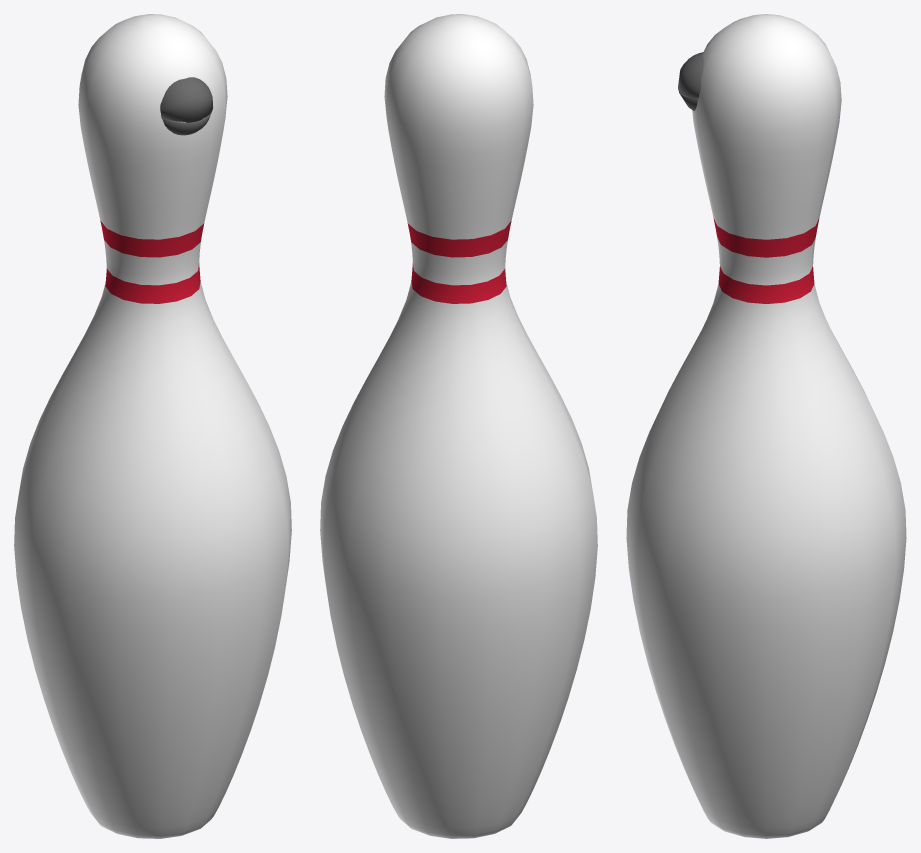
Rendered from pinhead.fbx.
3 views of the same model, side by side, from view 1: azimuth 30°, elevation 25°; view 2: azimuth 150°, elevation 25°; view 3: azimuth 270°, elevation 25° (orthographic).
Visible parts, largest first — view 1: pin_body, pin_eye_lid_top, pin_eye_lid_bottom; view 2: pin_body; view 3: pin_body, pin_eye_lid_top.
Boxes of the visible parts, x1,y1,x2,y2 form: pin_body: [14, 14, 291, 838]; pin_eye_lid_top: [160, 77, 213, 121]; pin_eye_lid_bottom: [161, 112, 211, 135]; pin_body: [320, 14, 597, 838]; pin_body: [626, 14, 906, 838]; pin_eye_lid_top: [678, 52, 703, 97].
Size of what is drawn, in the model's own units: 2.18 by 2.18 by 6.84.
